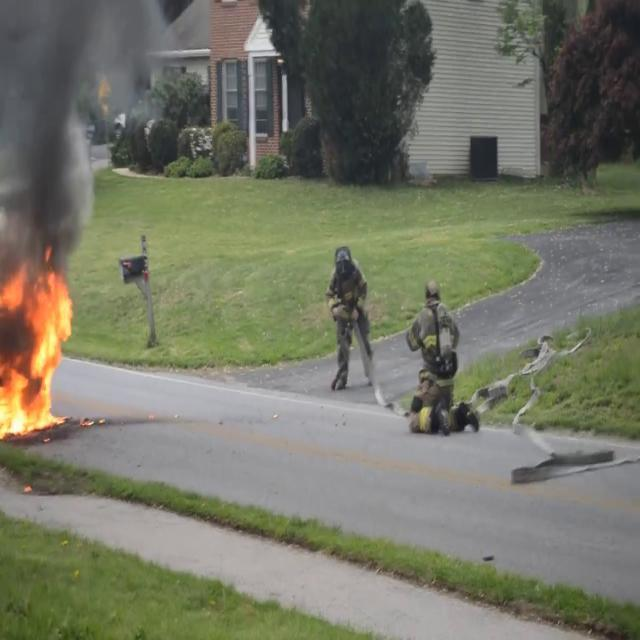Fire: (0, 260, 75, 440)
Smoke: (0, 0, 140, 288)
